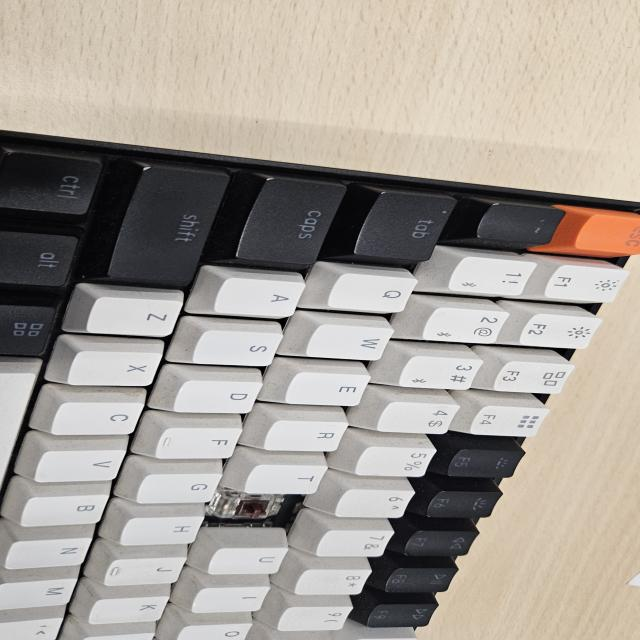C: (229, 493, 282, 527)
